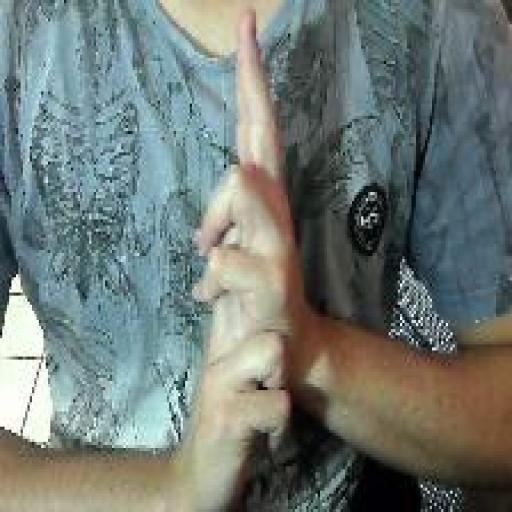Hitsuji -ram-: (191, 3, 300, 512)
